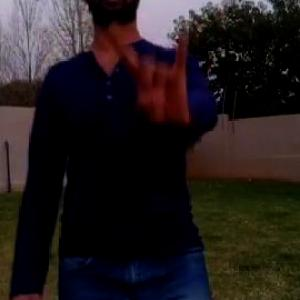takeoff-hand: (107, 13, 201, 131)
